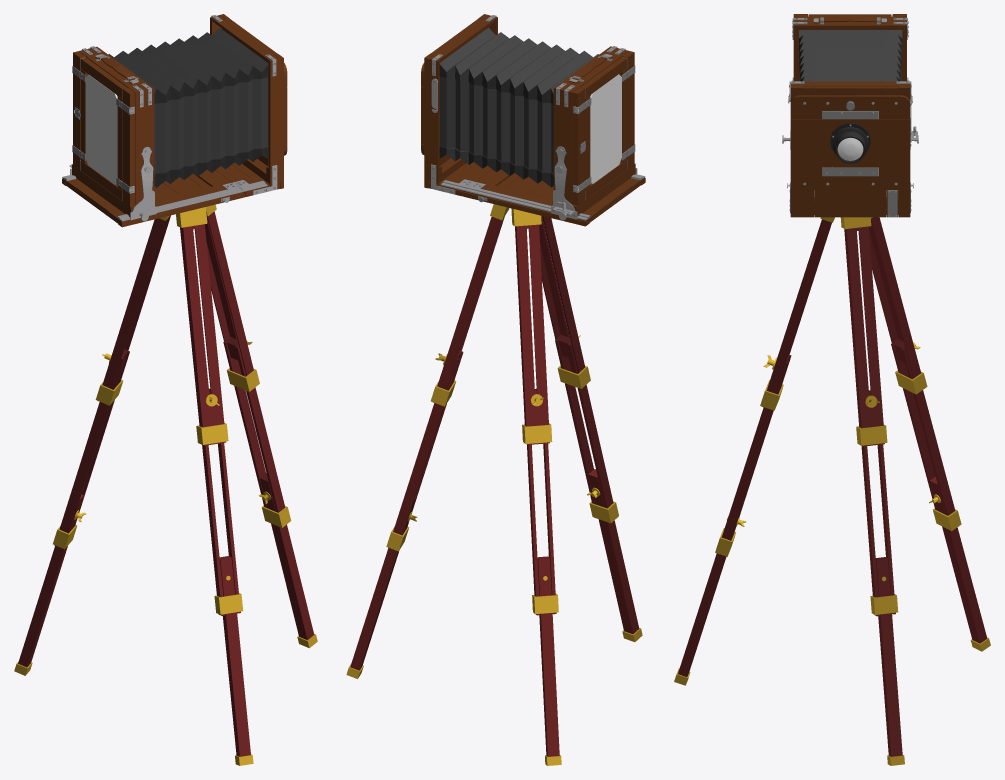
File: camera.fbx
3 renders of one model, left to right at view 1: azimuth 30°, elevation 25°; view 2: azimuth 150°, elevation 25°; view 3: azimuth 270°, elevation 25°, orthographic.
Parts seen in each view (by area): view 1: Cube.005, Cube.042, Cube.044, Cube.043, Cube.053, Cube.054, Cube.046, Cube.061, Cube.021, Cube.062, Cube.055, Cube.045 (+13 smaller); view 2: Cube.005, Cube.042, Cube.061, Cube.043, Cube.044, Cube.045, Cube.063, Cube.053, Cube.021, Cube.046, Cube.054, Cube.062 (+13 smaller); view 3: Cube.042, Cube.053, Cube.027, Cube.028, Cube.012, Cube.061, Cube.062, Cube.055, Cube.063, Cube.044, Cube.054, Cube.045 (+11 smaller).
Boxes of the visible parts, <box> form: Cube.005: <box>117,77,268,188</box>; Cube.042: <box>108,28,268,187</box>; Cube.044: <box>180,224,226,445</box>; Cube.043: <box>85,74,117,184</box>; Cube.053: <box>204,211,253,375</box>; Cube.054: <box>223,337,285,512</box>; Cube.046: <box>219,556,250,756</box>; Cube.061: <box>102,215,170,403</box>; Cube.021: <box>73,51,135,206</box>; Cube.062: <box>54,349,129,549</box>; Cube.055: <box>259,473,314,639</box>; Cube.045: <box>202,443,240,615</box>; Cube.005: <box>440,76,590,187</box>; Cube.042: <box>439,27,598,186</box>; Cube.061: <box>515,224,549,444</box>; Cube.043: <box>590,74,621,183</box>; Cube.044: <box>539,216,584,373</box>; Cube.045: <box>555,335,613,508</box>; Cube.063: <box>537,556,559,756</box>; Cube.053: <box>433,216,504,405</box>; Cube.021: <box>572,51,634,205</box>; Cube.046: <box>588,469,639,633</box>; Cube.054: <box>388,350,463,551</box>; Cube.062: <box>527,443,556,615</box>; Cube.042: <box>799,30,902,94</box>; Cube.053: <box>844,226,884,446</box>; Cube.027: <box>790,95,910,189</box>; Cube.028: <box>790,119,910,167</box>; Cube.012: <box>814,86,886,217</box>; Cube.061: <box>868,217,920,378</box>; Cube.062: <box>891,339,955,515</box>; Cube.055: <box>875,557,902,756</box>; Cube.063: <box>930,477,987,643</box>; Cube.044: <box>762,219,831,409</box>; Cube.054: <box>861,444,895,616</box>; Cube.045: <box>716,354,791,556</box>.
Size of the model in its own units: 506 by 1214 by 542.
